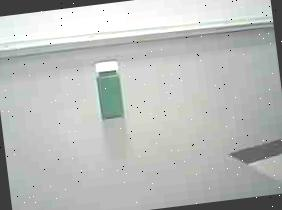Bottle C: (84, 53, 134, 130)
